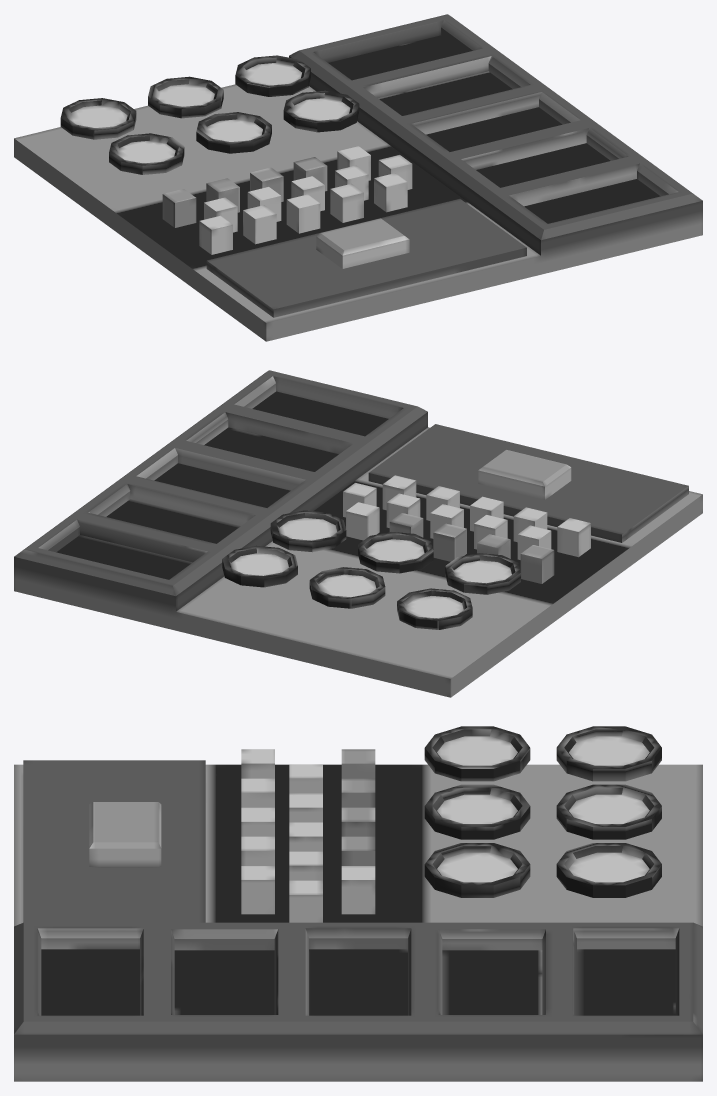
Rendered from Misc_Tech_A.fbx.
The picture shows the model from 3 angles, top to bottom: view 1: azimuth 30°, elevation 25°; view 2: azimuth 150°, elevation 25°; view 3: azimuth 270°, elevation 25°; orthographic projection. The views are drawn at different scales.
Visible parts, largest first — view 1: Misc_Tech_A; view 2: Misc_Tech_A; view 3: Misc_Tech_A.
Part boxes in pixels (x1,y1,x2,y2): Misc_Tech_A: (14,14,702,341); Misc_Tech_A: (14,370,702,697); Misc_Tech_A: (14,726,702,1081).
Size of the model in its own units: 200 by 24.41 by 200.
